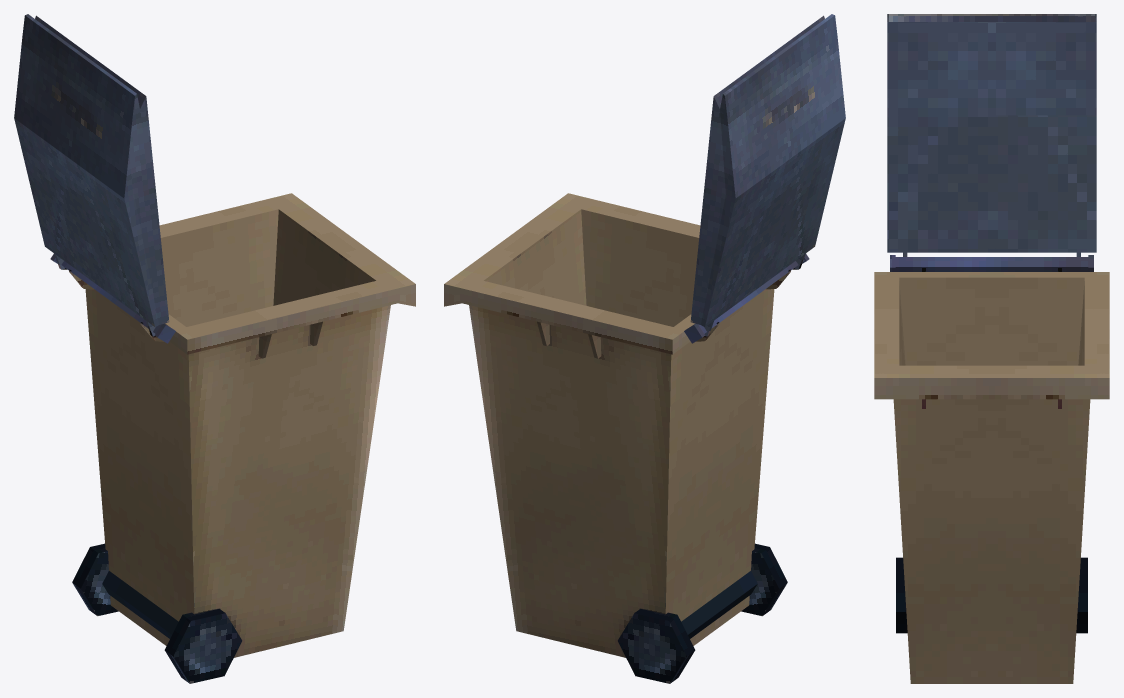
Rendered from trash_can_open.glb.
3 renders of one model, left to right at view 1: azimuth 30°, elevation 25°; view 2: azimuth 150°, elevation 25°; view 3: azimuth 270°, elevation 25°, orthographic. The views are drawn at different scales.
Parts seen in each view (by area): view 1: trash_can_open; view 2: trash_can_open; view 3: trash_can_open.
Part boxes in pixels (x1=…): trash_can_open: x1=14, y1=14, x2=415, y2=683; trash_can_open: x1=444, y1=14, x2=845, y2=683; trash_can_open: x1=874, y1=14, x2=1109, y2=683.
Size of the model in its own units: 1.03 by 2.1 by 0.7794.
Materials: 1 (1 with a texture image).
